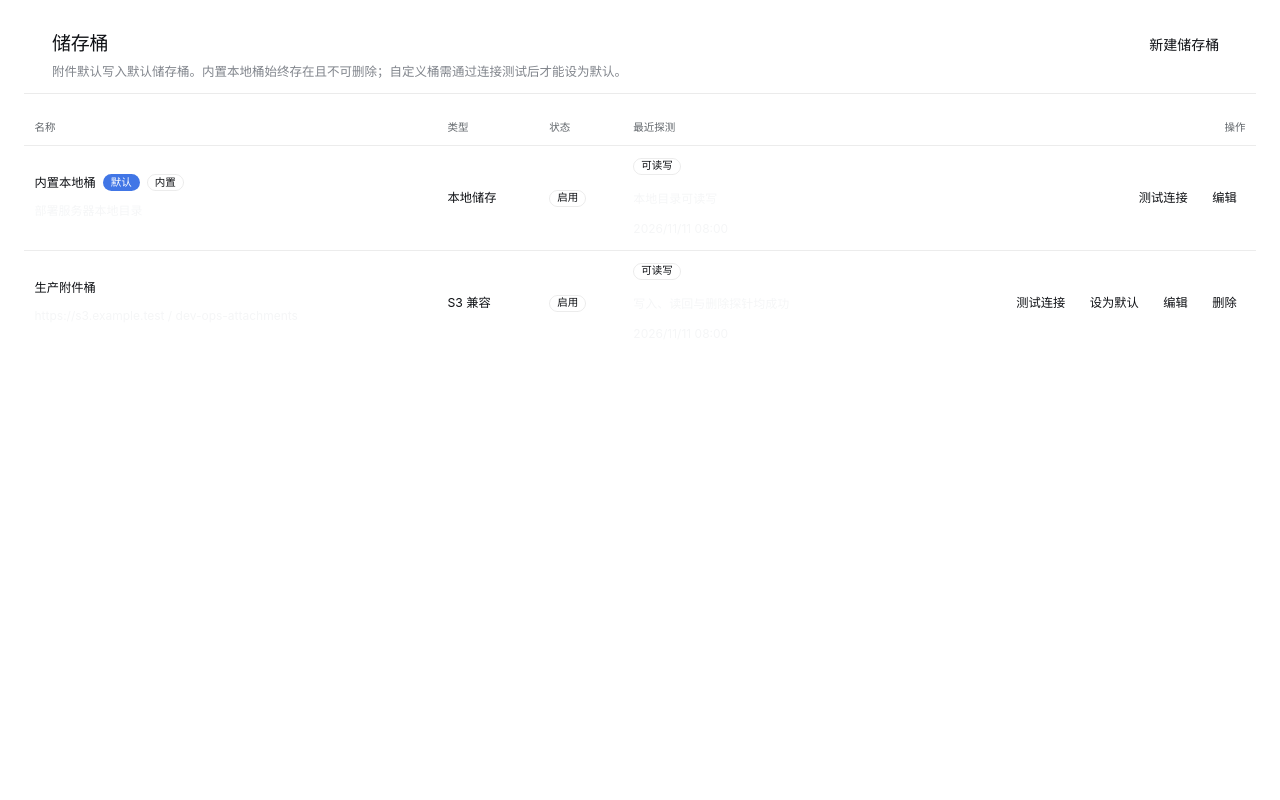
it: StorageBucketManagement › 删除被附件引用的桶时就地提示引用原因并保留弹窗
Click the button "删除" at point(1224, 303), box [1204, 290, 1246, 315]
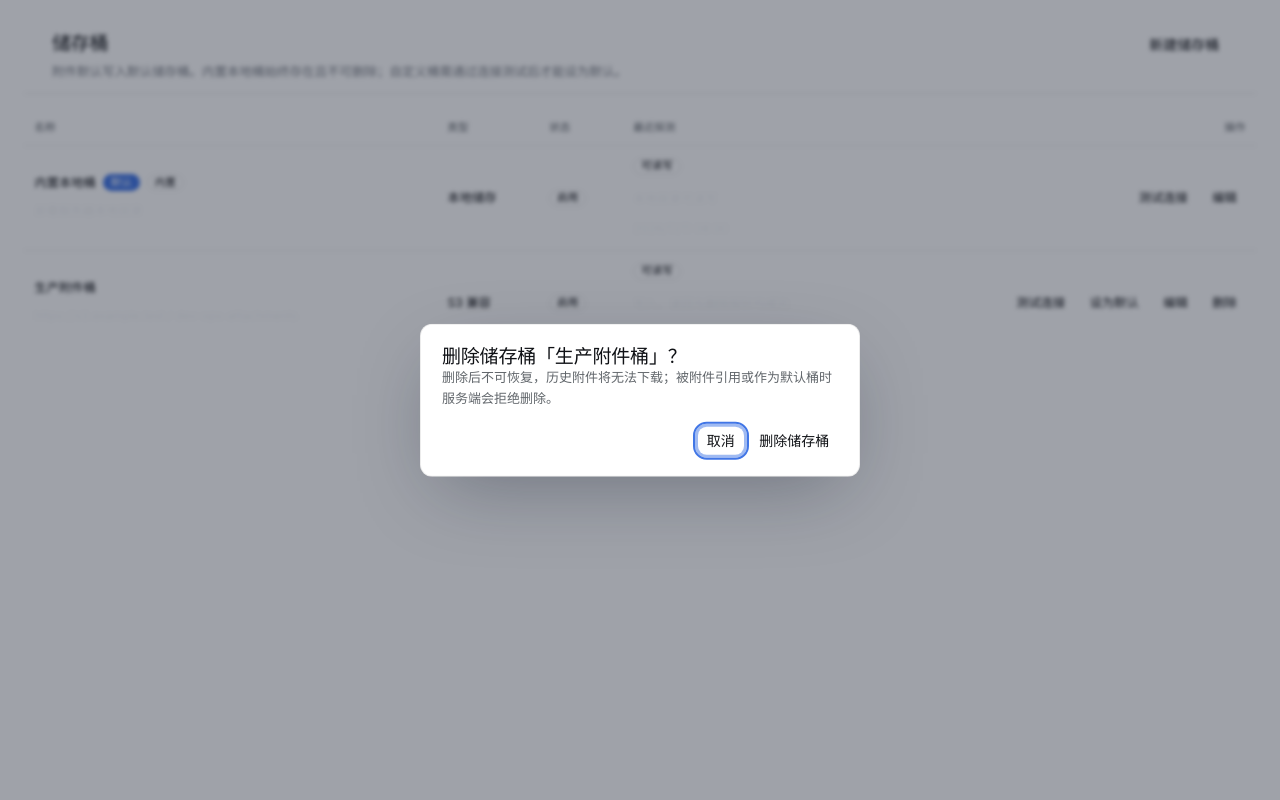
Expected: the dialog shows "删除后不可恢复", [442, 369, 832, 406]
Click the button "删除储存桶" at point(794, 440), box [750, 426, 838, 454]
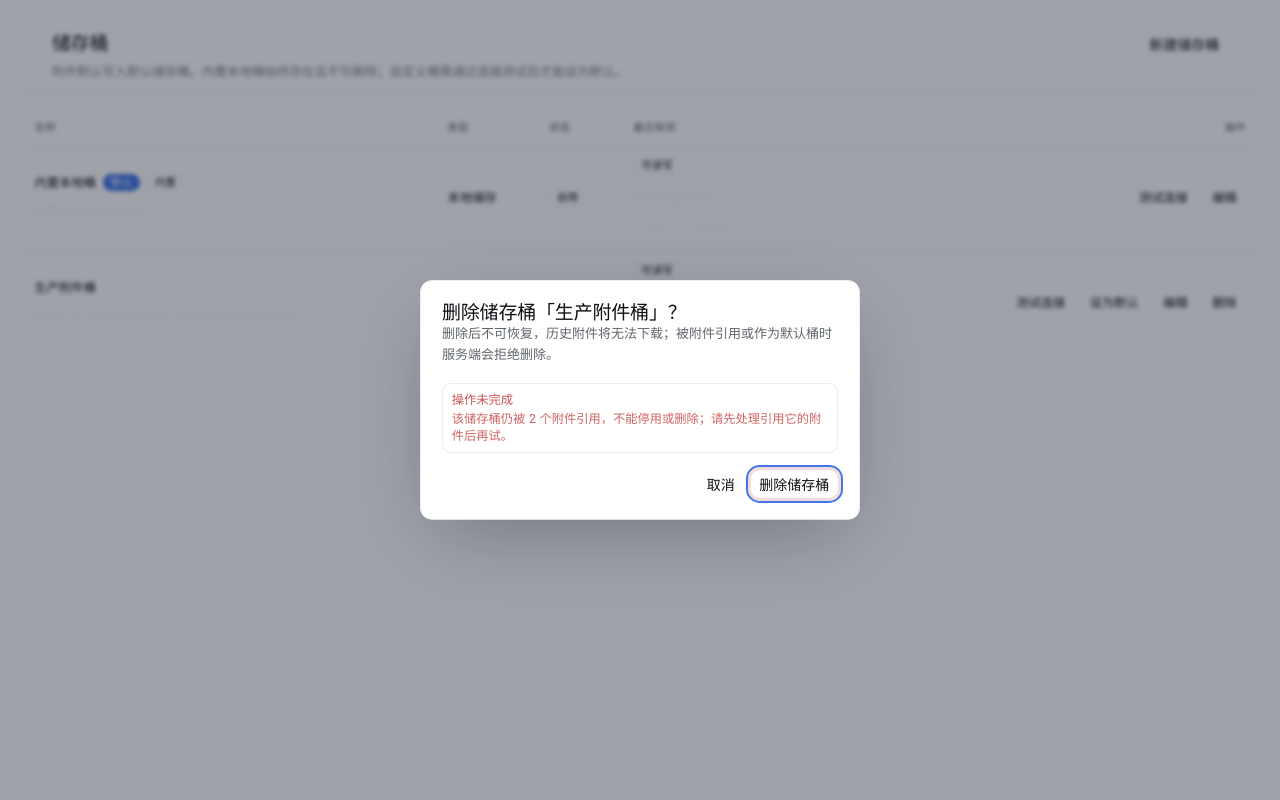
Expected: the dialog is shown, [420, 280, 860, 520]
Expected: the text "该储存桶仍被 2 个附件引用，不能停用或删除；请先处理引用它的附件后再试。" is shown, [452, 410, 828, 445]
